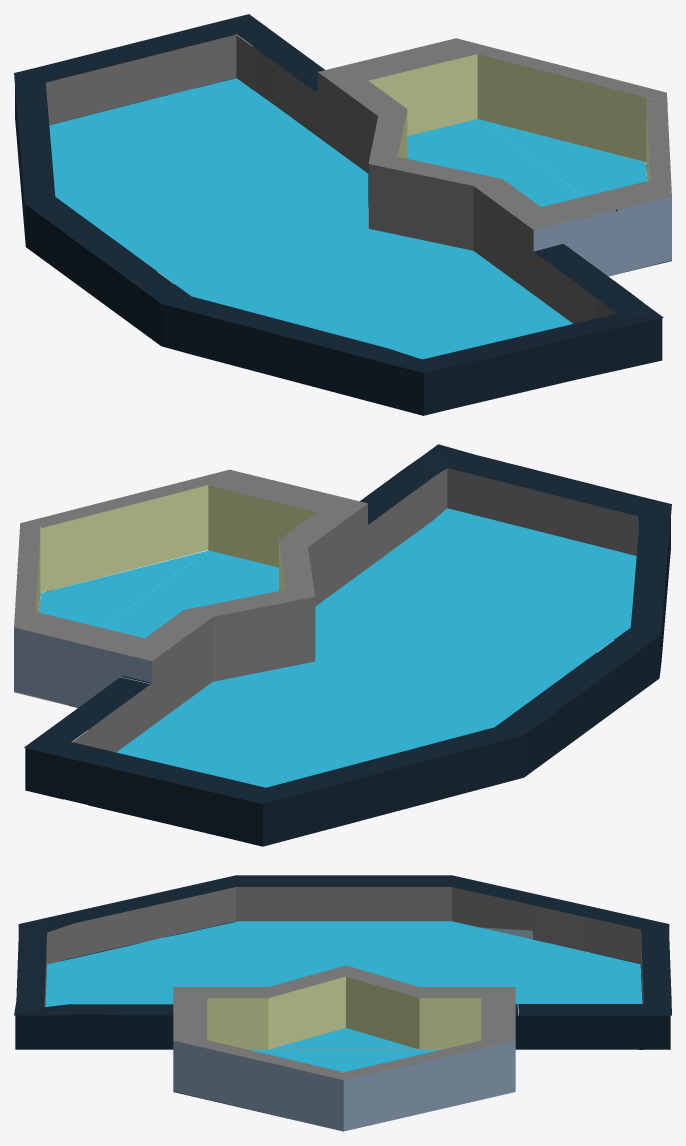
Rendered from Fountain1.fbx.
The picture shows the model from 3 angles, top to bottom: view 1: azimuth 30°, elevation 25°; view 2: azimuth 150°, elevation 25°; view 3: azimuth 270°, elevation 25°; orthographic projection. The views are drawn at different scales.
Visible parts, largest first — view 1: Cube; view 2: Cube; view 3: Cube.
Boxes of the visible parts, x1,y1,x2,y2 form: Cube: (14,14,671,415); Cube: (14,444,671,846); Cube: (14,875,671,1131).
Size of the model in its own units: 919 by 733 by 83.42.
